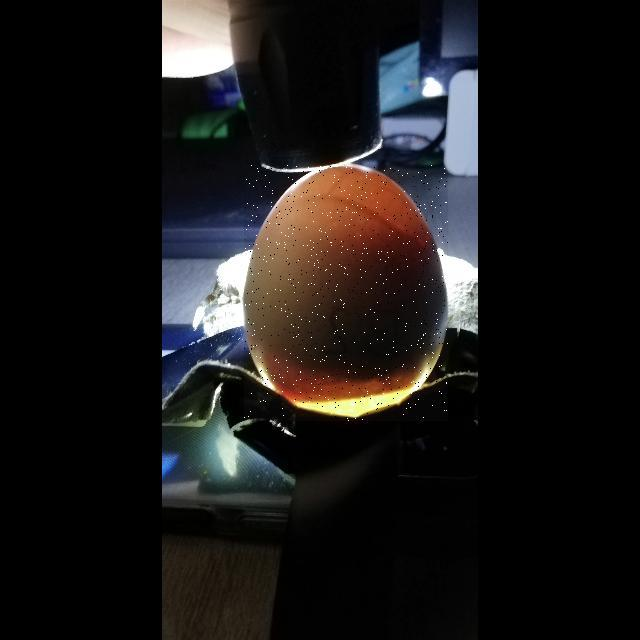Fertile: (244, 165, 448, 421)
